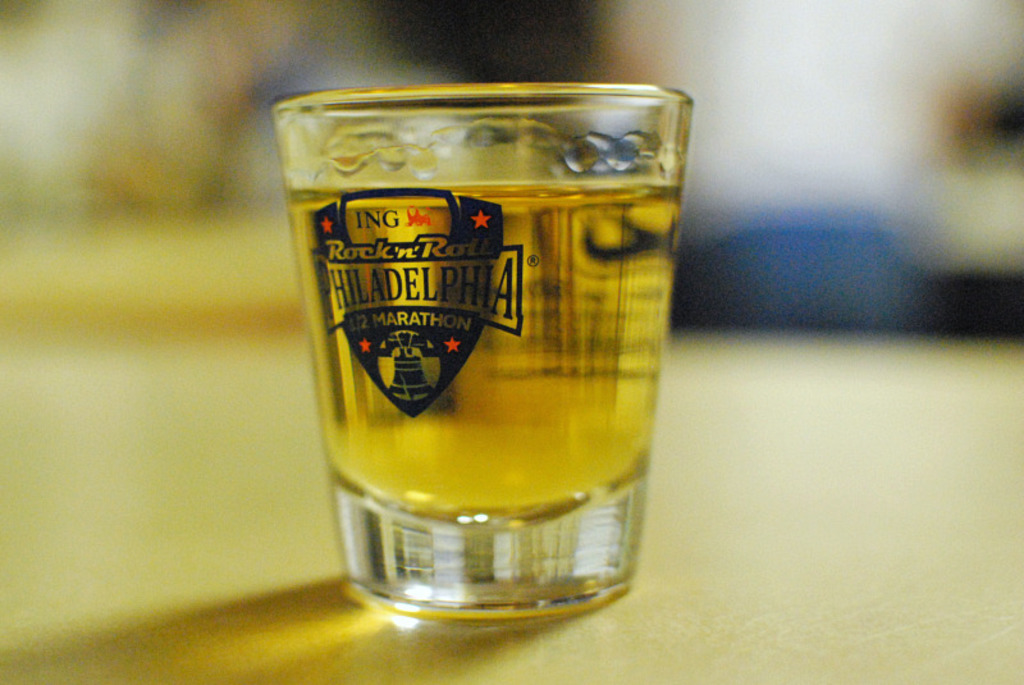Beer: (271, 67, 702, 631)
